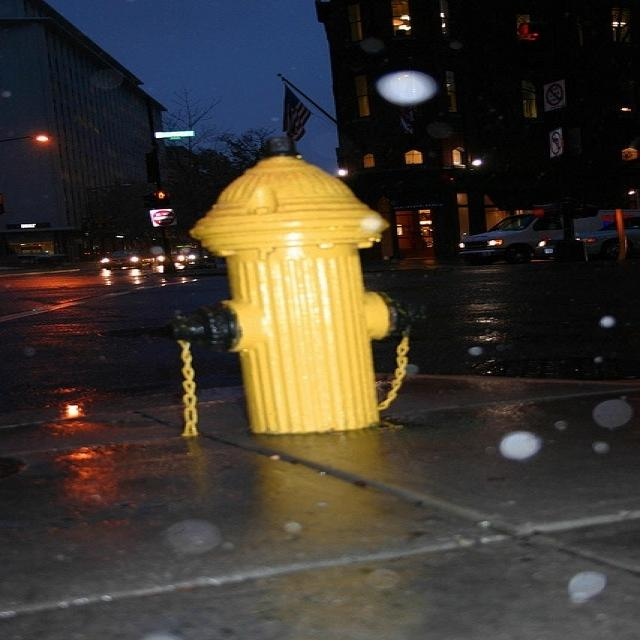fire_hydrant: (152, 144, 439, 440)
